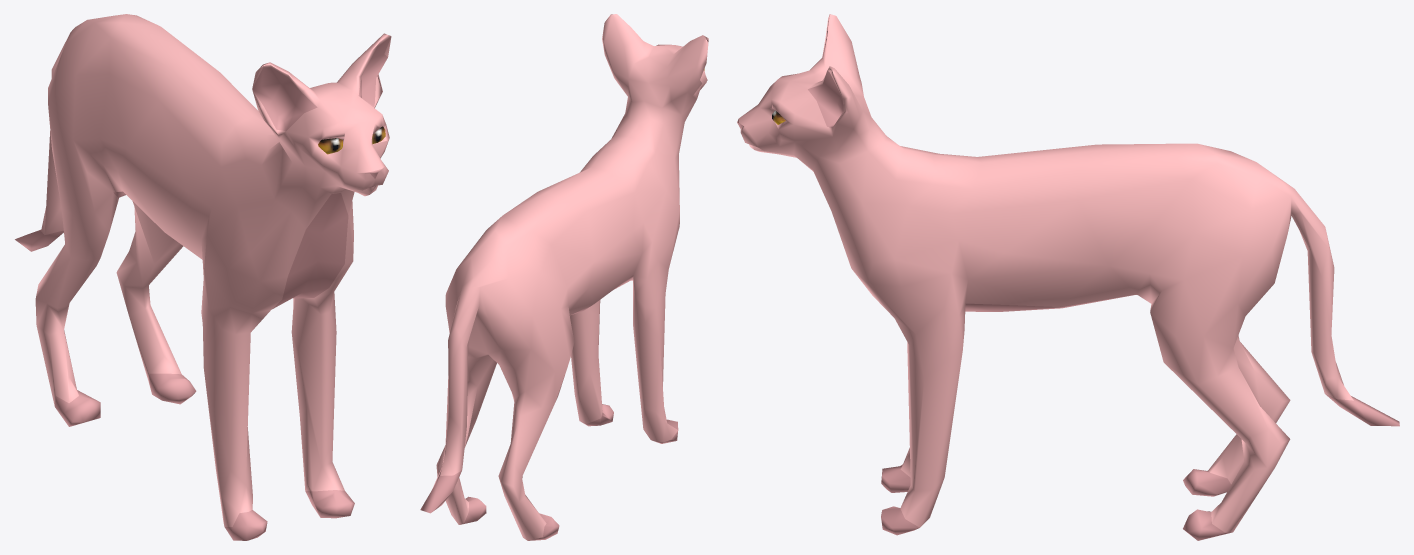
Rendered from 8dcafd5b-2ad3-49ad-bba7-1e1e06c08816.glb.
3 renders of one model, left to right at view 1: azimuth 30°, elevation 25°; view 2: azimuth 150°, elevation 25°; view 3: azimuth 270°, elevation 25°, orthographic. The views are drawn at different scales.
Parts seen in each view (by area): view 1: Sphynx; view 2: Sphynx; view 3: Sphynx.
Part boxes in pixels (bbox=[...]): Sphynx: bbox=[15, 14, 391, 540]; Sphynx: bbox=[420, 14, 708, 540]; Sphynx: bbox=[737, 14, 1399, 540].
Size of what is drawn, in the model's own units: 0.2113 by 0.7482 by 0.9468.
Materials: 1 (1 with a texture image).
